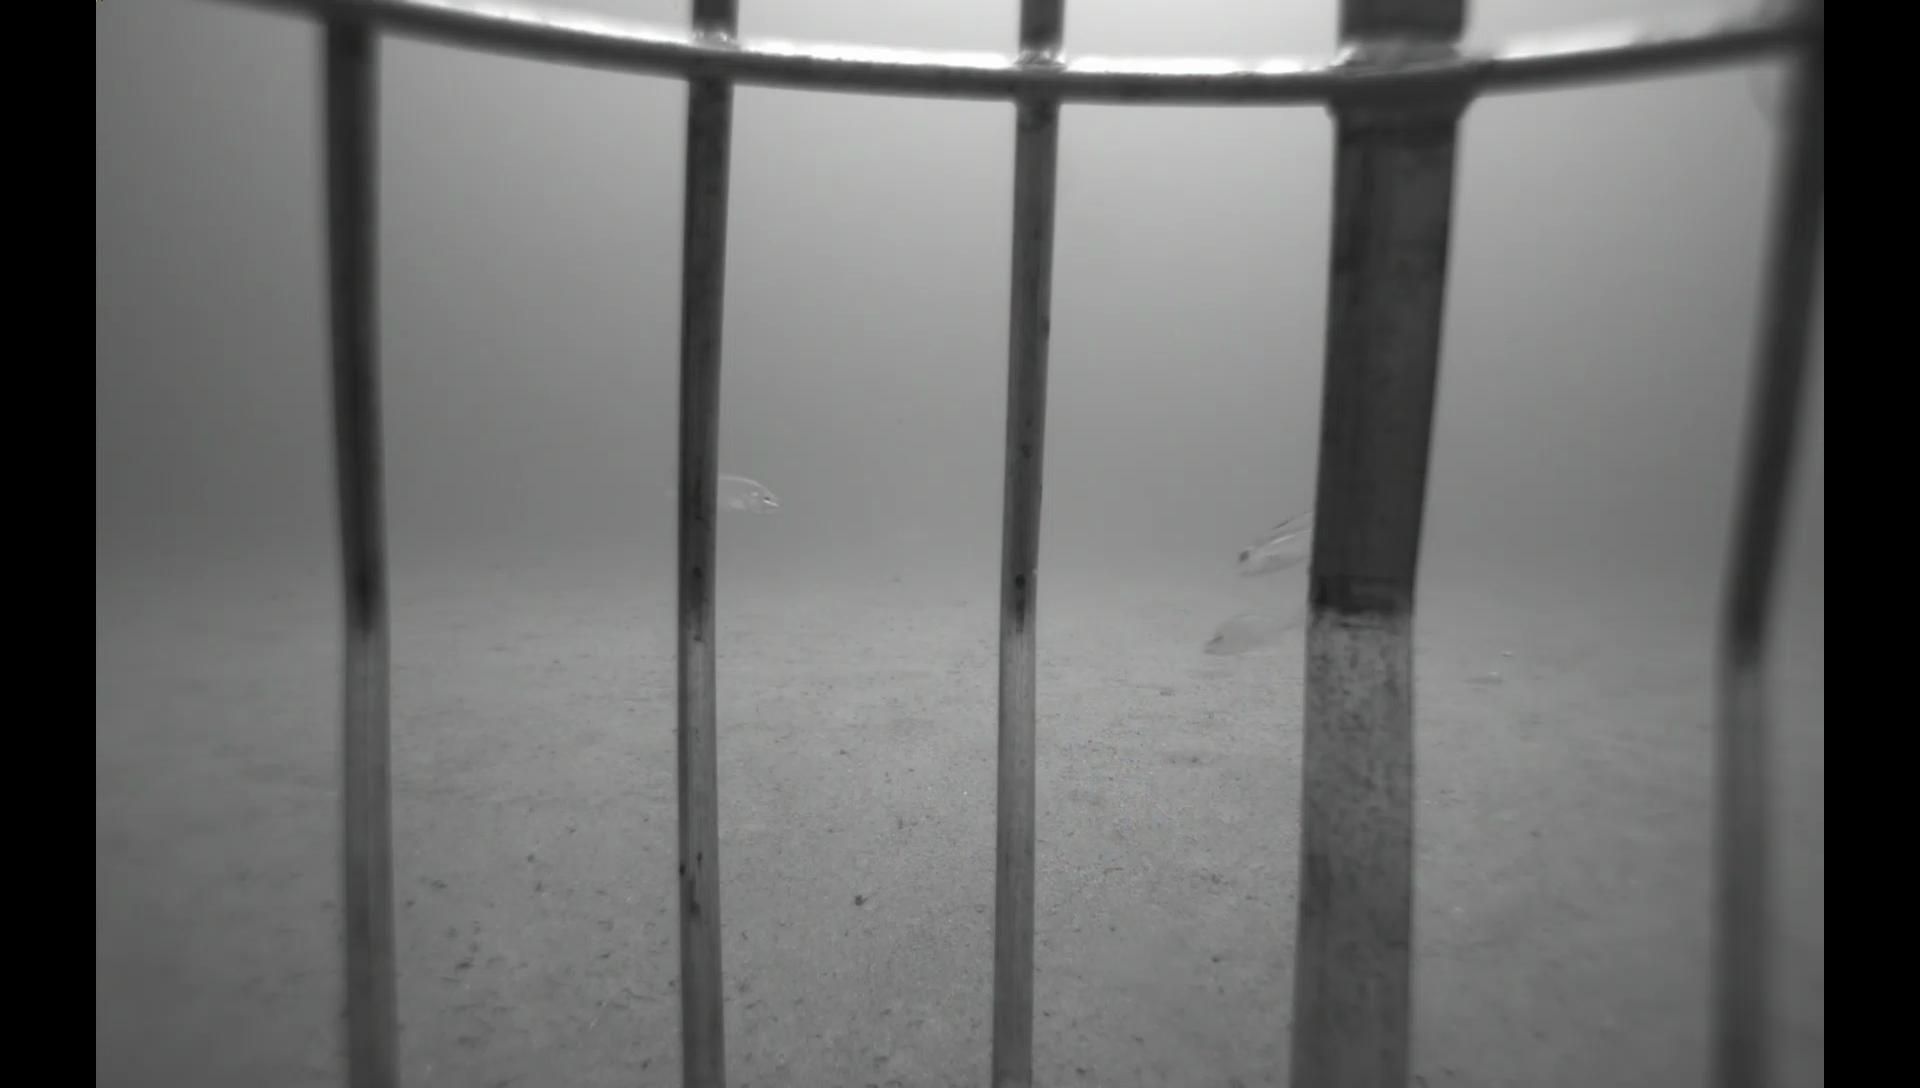CAULOLATILUSCYANOPS-170070101: (1220, 500, 1311, 595)
PAGRUSPAGRUS-170212302: (1195, 596, 1302, 663)
PRISTIPOMOIDES-170151800: (655, 459, 775, 526)
